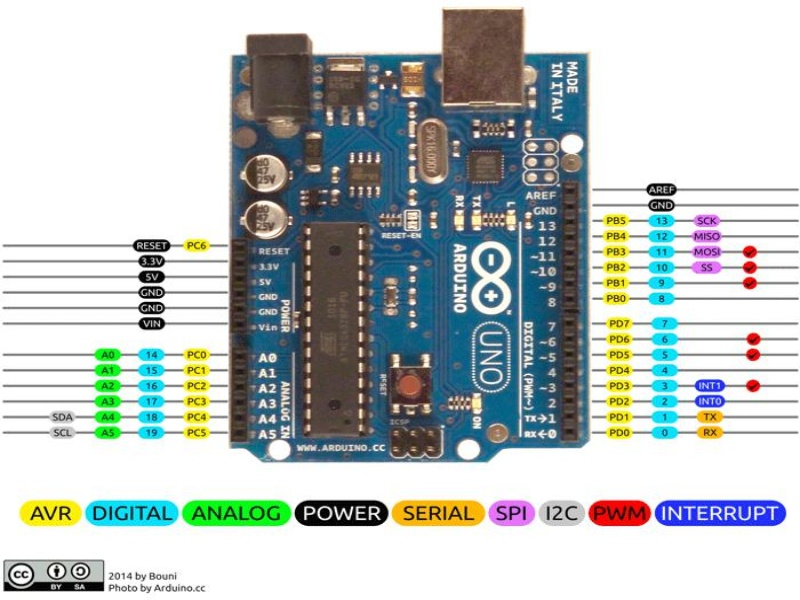uno: (212, 5, 593, 489)
